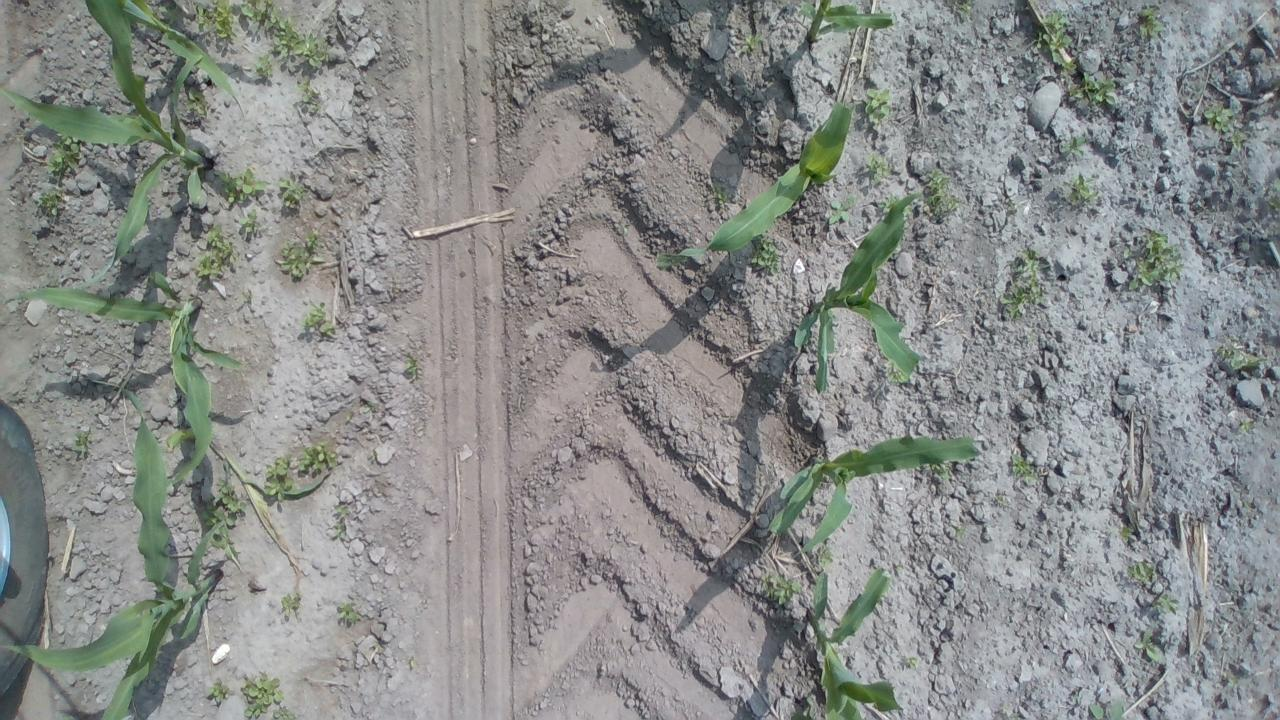Maize: (0, 375, 225, 720), (0, 0, 213, 294), (4, 271, 248, 486), (656, 102, 854, 272), (792, 192, 921, 395), (767, 436, 982, 552), (163, 421, 334, 564), (116, 0, 250, 122), (806, 569, 906, 720), (798, 0, 892, 43)
Weeds: (238, 0, 329, 68), (198, 478, 250, 560), (996, 248, 1048, 322), (1124, 228, 1184, 290), (1032, 12, 1076, 78), (194, 223, 240, 279), (192, 0, 242, 51), (240, 670, 288, 720), (280, 229, 326, 279), (213, 167, 269, 207), (1204, 102, 1248, 152), (922, 168, 962, 217), (1068, 70, 1117, 106), (1214, 342, 1268, 371), (263, 455, 295, 503), (294, 300, 336, 336), (299, 440, 339, 477), (46, 130, 80, 172), (1058, 172, 1100, 206), (750, 230, 781, 276), (761, 572, 802, 604), (862, 86, 894, 126), (1132, 628, 1164, 664), (862, 152, 892, 186), (296, 78, 324, 114), (1138, 4, 1166, 40), (1010, 448, 1038, 482), (276, 176, 304, 209), (36, 187, 66, 216), (185, 86, 212, 118), (1088, 699, 1128, 720), (829, 195, 857, 224), (1126, 558, 1156, 584), (735, 31, 766, 56), (1058, 134, 1089, 158), (206, 678, 232, 706), (789, 695, 818, 720), (875, 190, 900, 219), (71, 428, 94, 459), (336, 601, 365, 625), (1151, 593, 1180, 616), (238, 208, 260, 235), (280, 590, 302, 616), (404, 350, 420, 383), (1108, 525, 1134, 544), (926, 462, 952, 481), (885, 361, 906, 384), (256, 53, 274, 79), (817, 544, 834, 571), (711, 182, 728, 206), (951, 0, 975, 16), (1268, 178, 1280, 209), (1226, 672, 1243, 690), (904, 655, 922, 671), (332, 504, 352, 518), (272, 709, 296, 720), (902, 204, 914, 223), (1239, 417, 1251, 432), (334, 523, 346, 536), (956, 526, 968, 538), (622, 223, 630, 240), (995, 494, 1006, 504), (1007, 200, 1018, 210), (408, 658, 418, 668), (781, 0, 791, 10), (1028, 0, 1036, 6)
